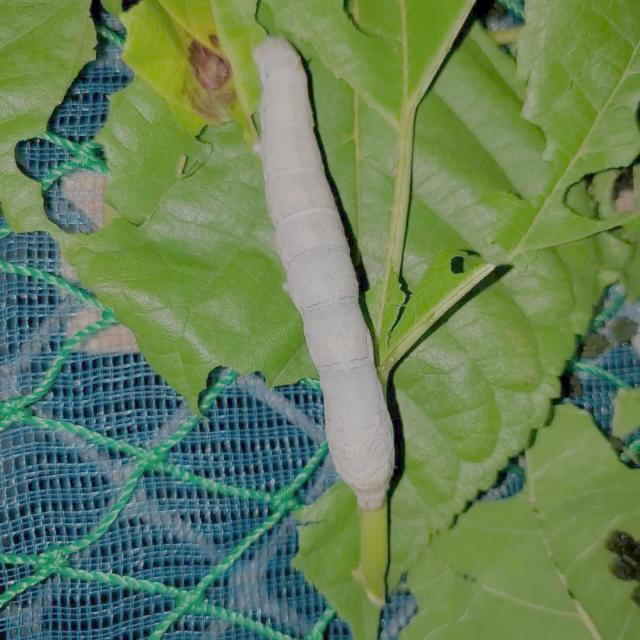Healthy: (235, 28, 416, 516)
